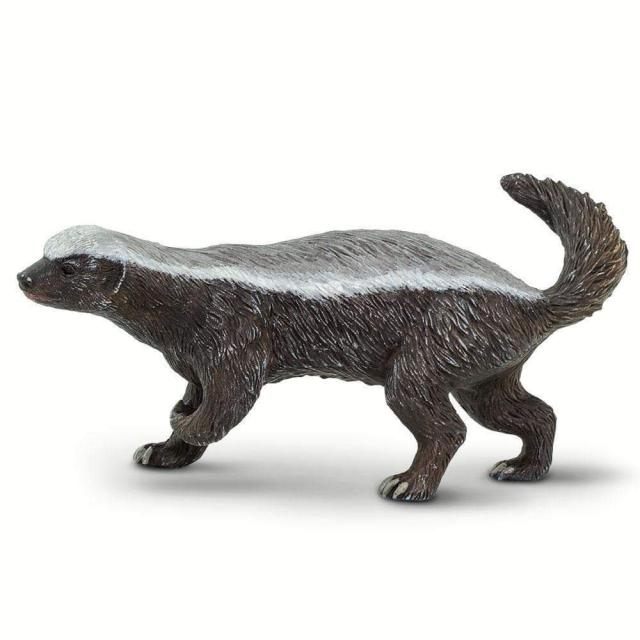Badger: (20, 148, 628, 514)
